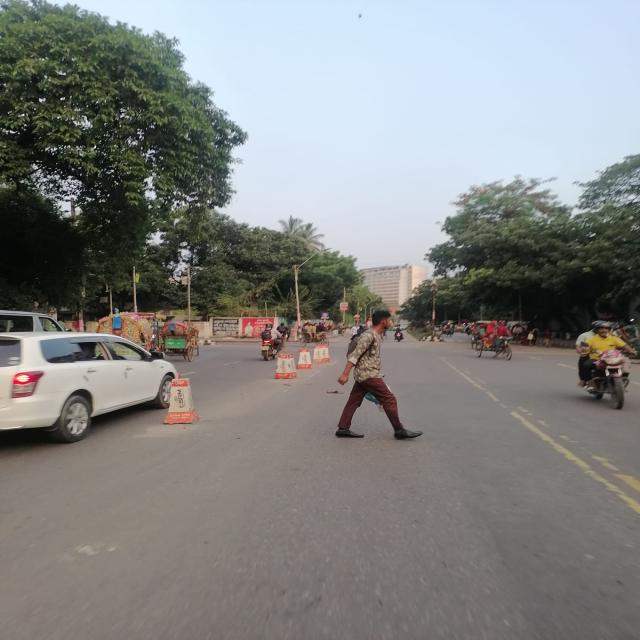person: (335, 310, 422, 439)
